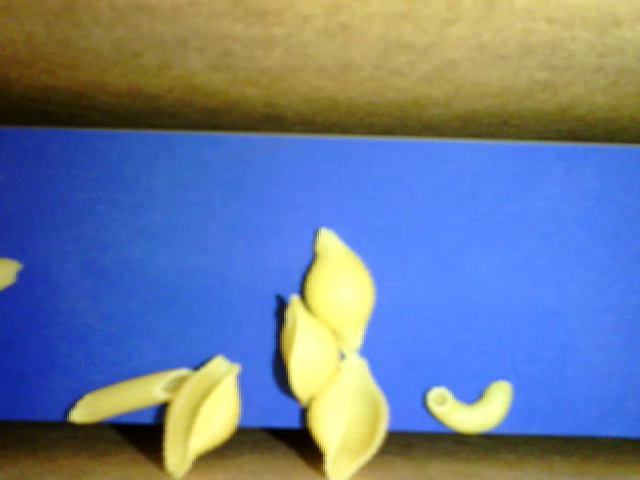elbow: (424, 378, 513, 433)
penne: (68, 368, 195, 424)
shell: (305, 354, 391, 479), (302, 226, 376, 358), (163, 354, 240, 478), (282, 293, 339, 409)
